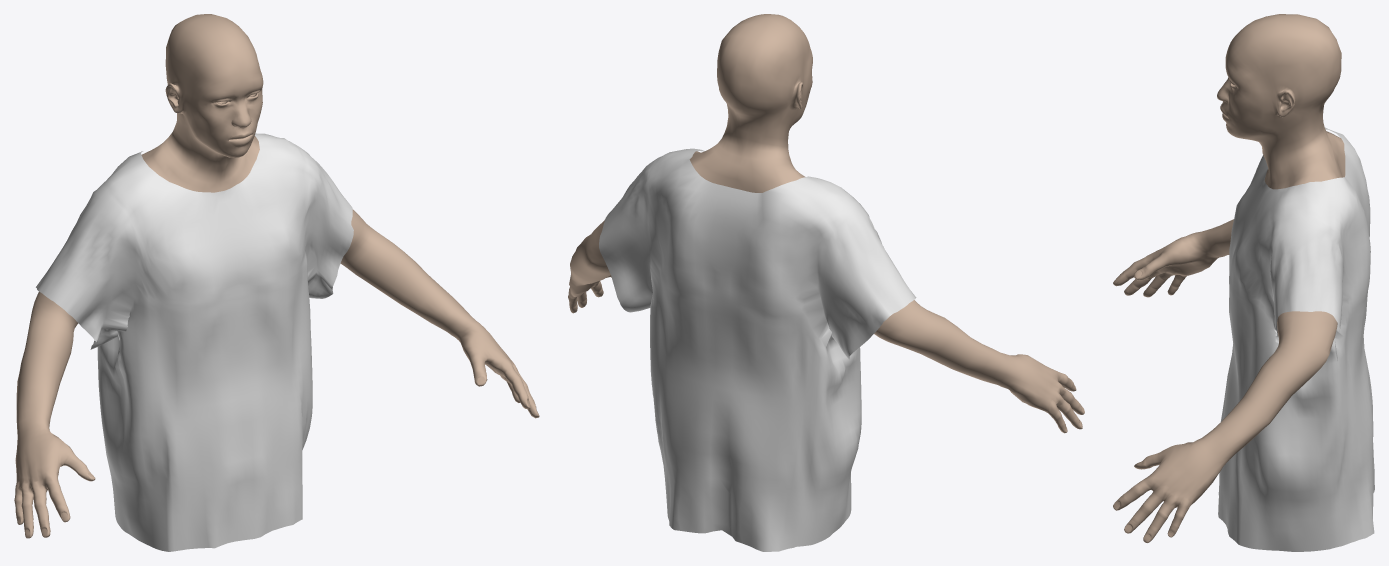
3 views of the same model, side by side, from view 1: azimuth 30°, elevation 25°; view 2: azimuth 150°, elevation 25°; view 3: azimuth 270°, elevation 25° (orthographic).
Parts seen in each view (by area): view 1: Cube, Base; view 2: Cube, Base; view 3: Cube, Base.
Part boxes in pixels (left/top/right/bottom): Cube: left=36, top=133, right=353, bottom=551; Base: left=14, top=14, right=539, bottom=538; Cube: left=599, top=148, right=916, bottom=551; Base: left=568, top=14, right=1084, bottom=433; Cube: left=1218, top=127, right=1374, bottom=551; Base: left=1113, top=14, right=1345, bottom=542.
Bounding box in the file's own units: 9.07 × 8.46 × 4.05.
